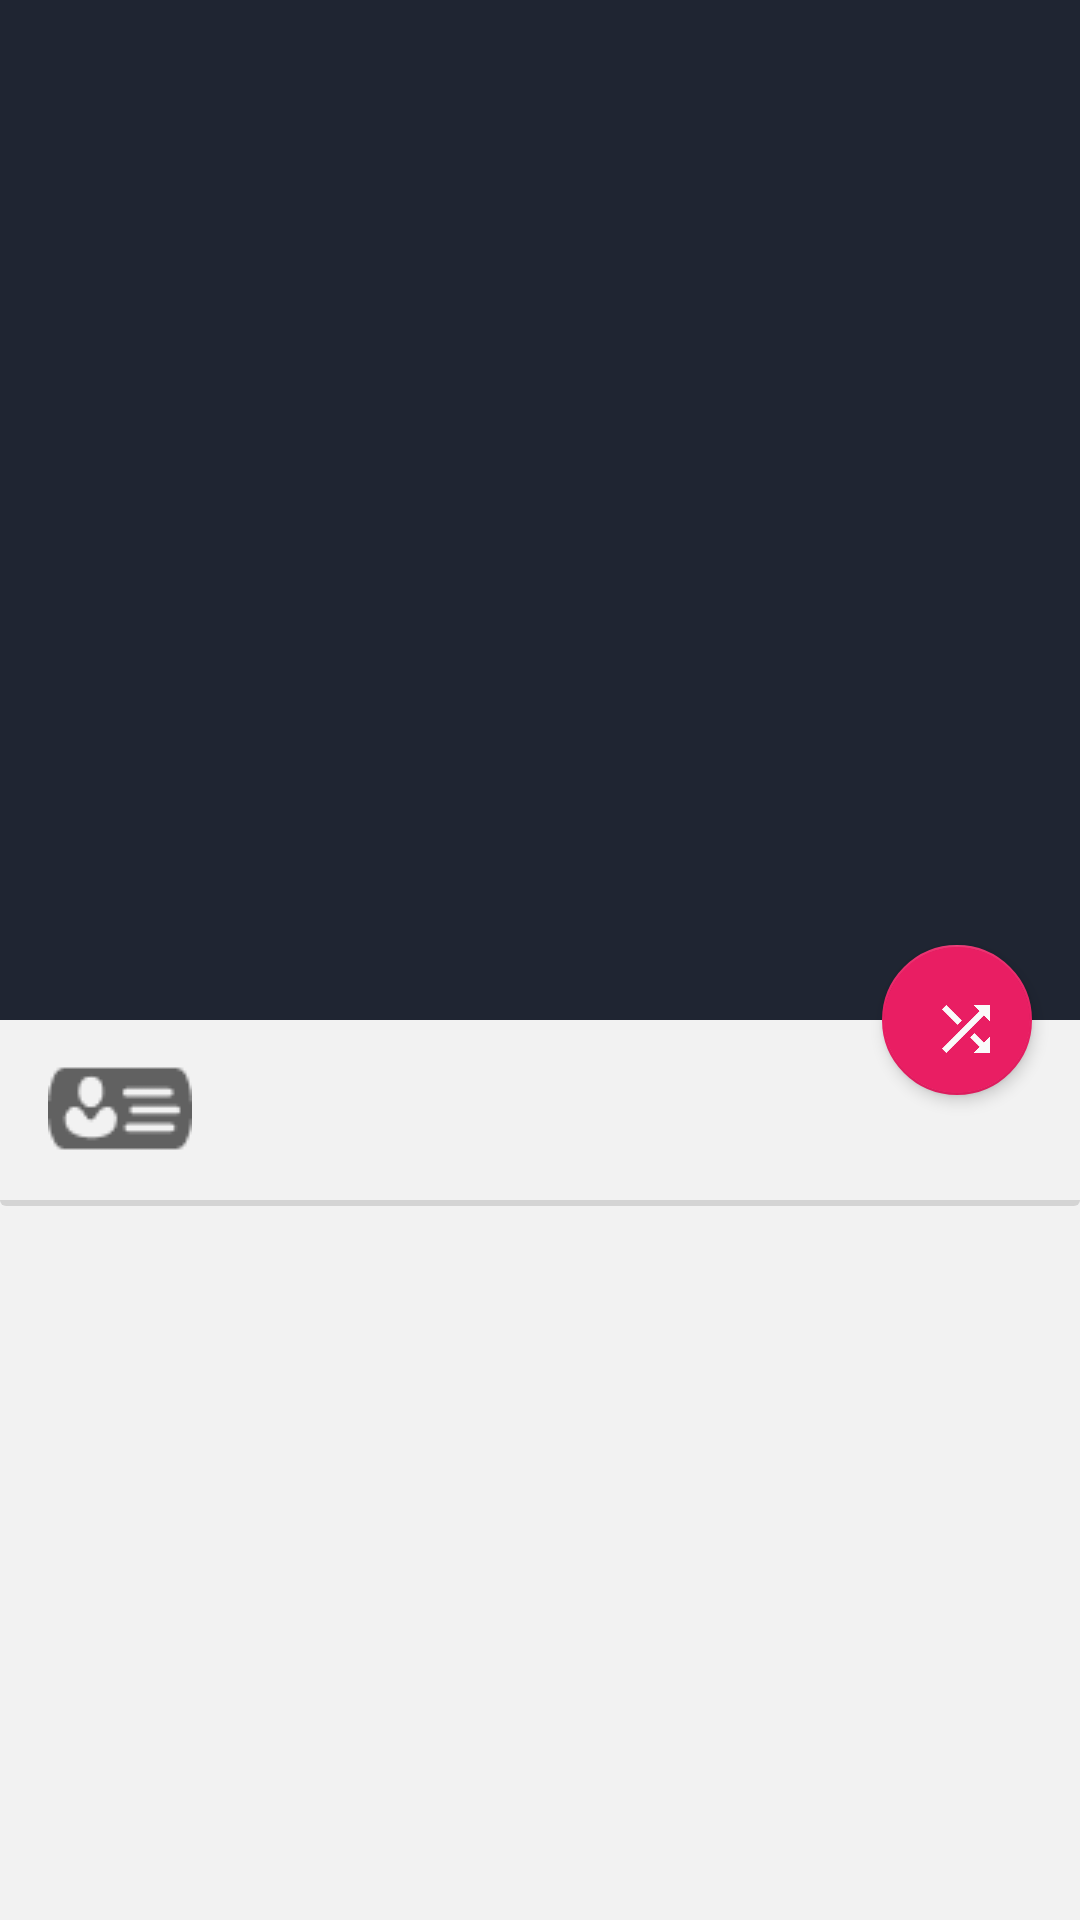

Where to tap for icons on this 1080*1920 app screen, as (x,y):
artist info: (120,1108)
shuffle floating: (957,1020)
